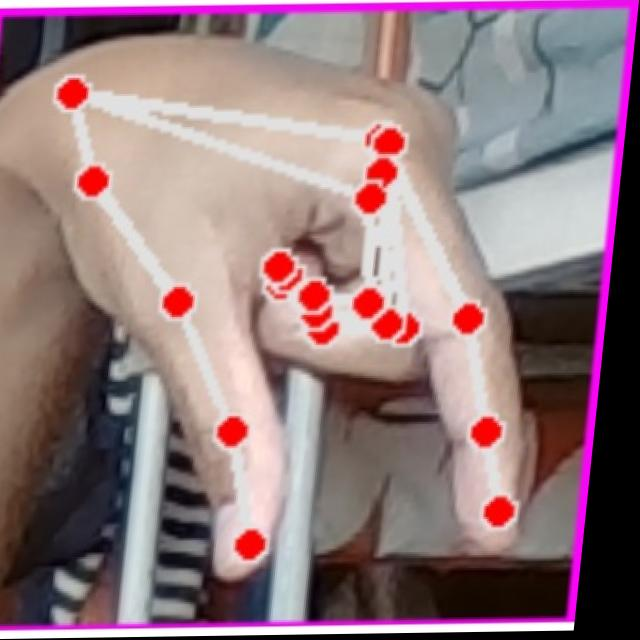Q: (0, 20, 570, 597)
